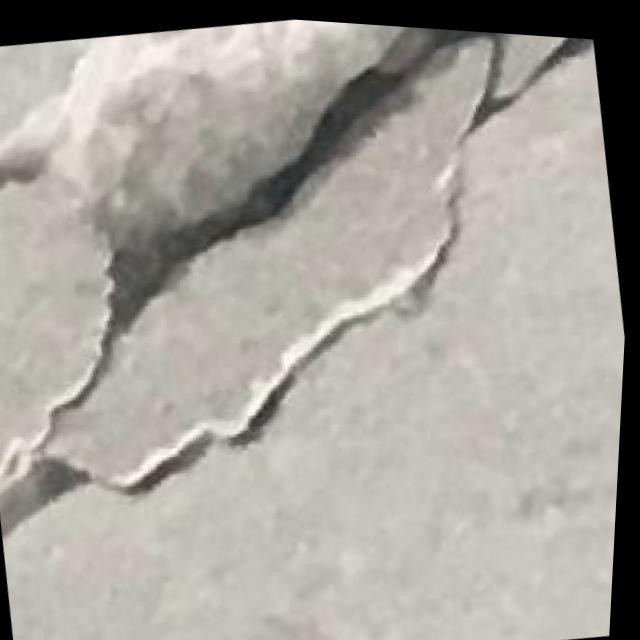Crack: (0, 0, 640, 558)
